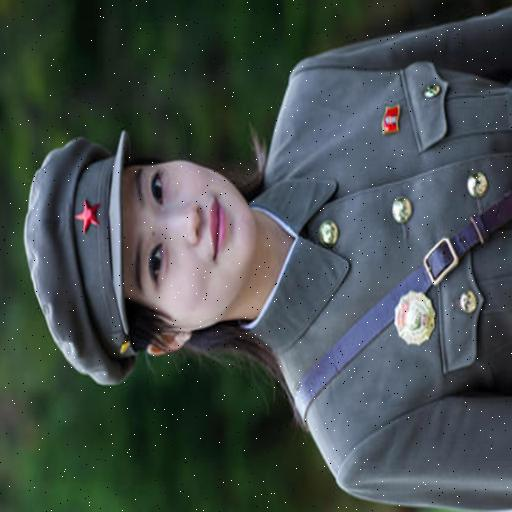north army: (0, 41, 512, 512)
